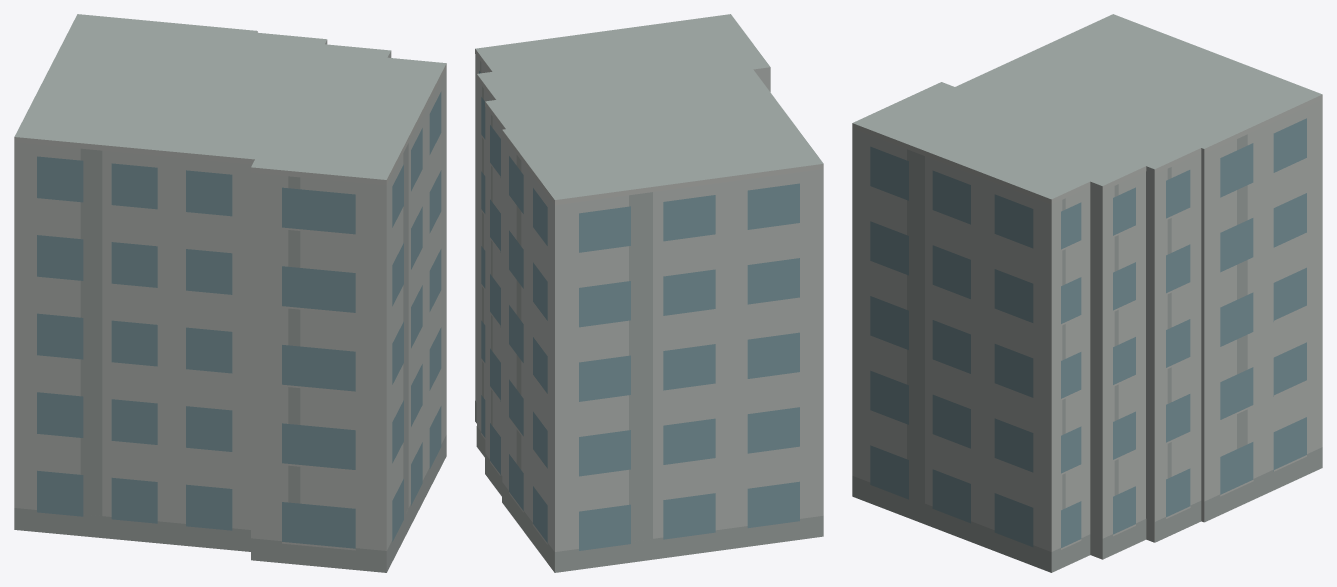
Rendered from survey-upis-33017359.glb.
3 views of the same model, side by side, from view 1: azimuth 30°, elevation 25°; view 2: azimuth 150°, elevation 25°; view 3: azimuth 270°, elevation 25° (orthographic). The views are drawn at different scales.
Visible parts, largest first — view 1: survey-upis-33017359.tmp; view 2: survey-upis-33017359.tmp; view 3: survey-upis-33017359.tmp.
Part boxes in pixels (x1,y1,x2,y2): survey-upis-33017359.tmp: (14, 14, 446, 572); survey-upis-33017359.tmp: (475, 14, 823, 572); survey-upis-33017359.tmp: (852, 14, 1322, 572).
Size of the model in its own units: 18.54 by 17.4 by 19.87.
